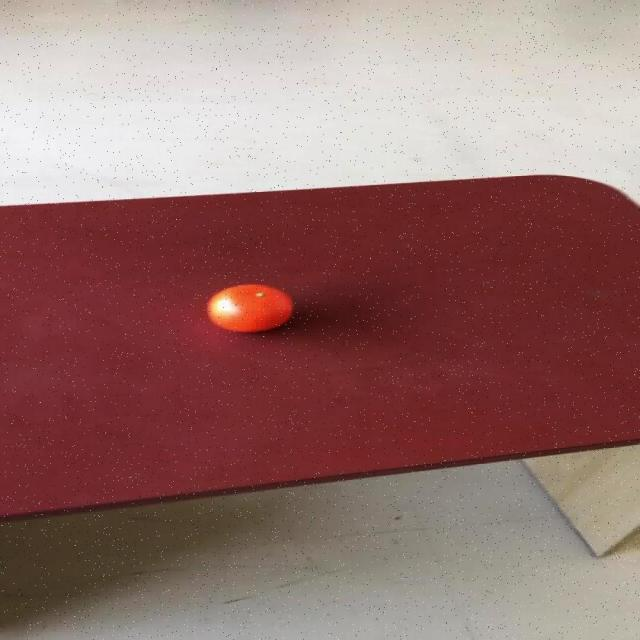Orange: (205, 282, 293, 333)
